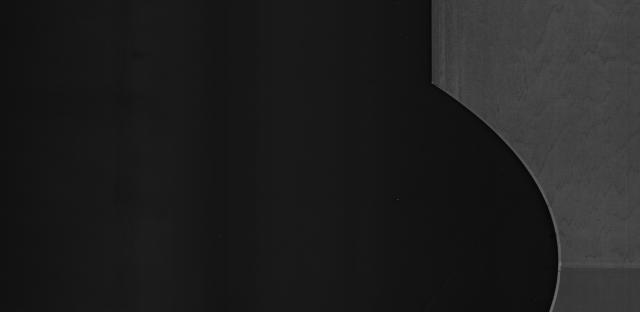crescent_gap: (417, 70, 569, 312)
welding_line: (545, 260, 640, 280)
